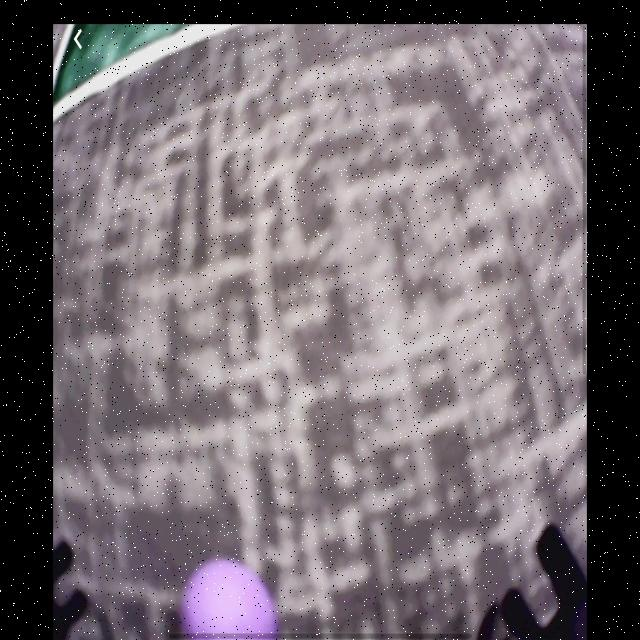ball: (178, 558, 278, 640)
